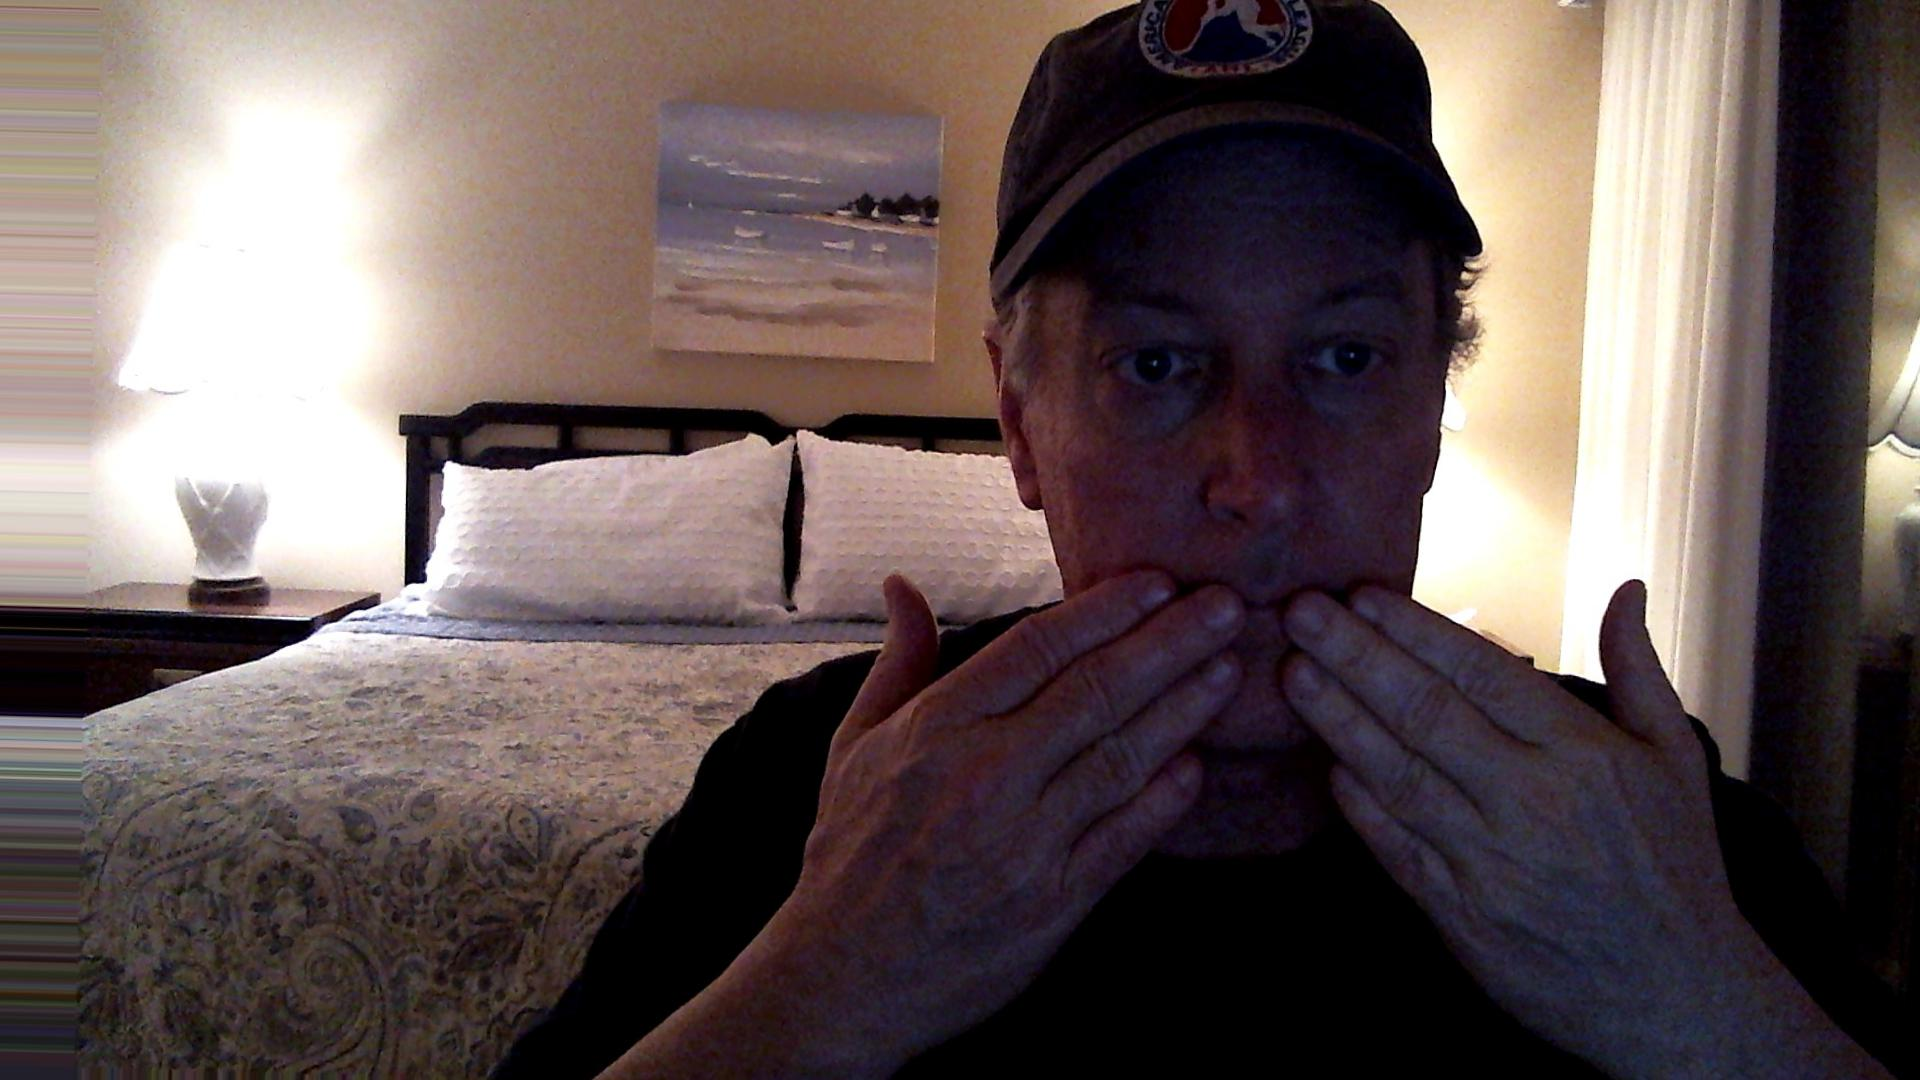Thank You: (783, 553, 1762, 1035)
